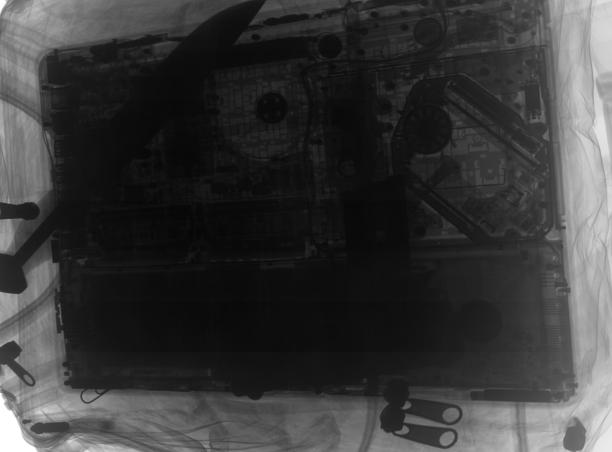Handgun: (225, 169, 471, 401)
Knife: (1, 0, 270, 297)
